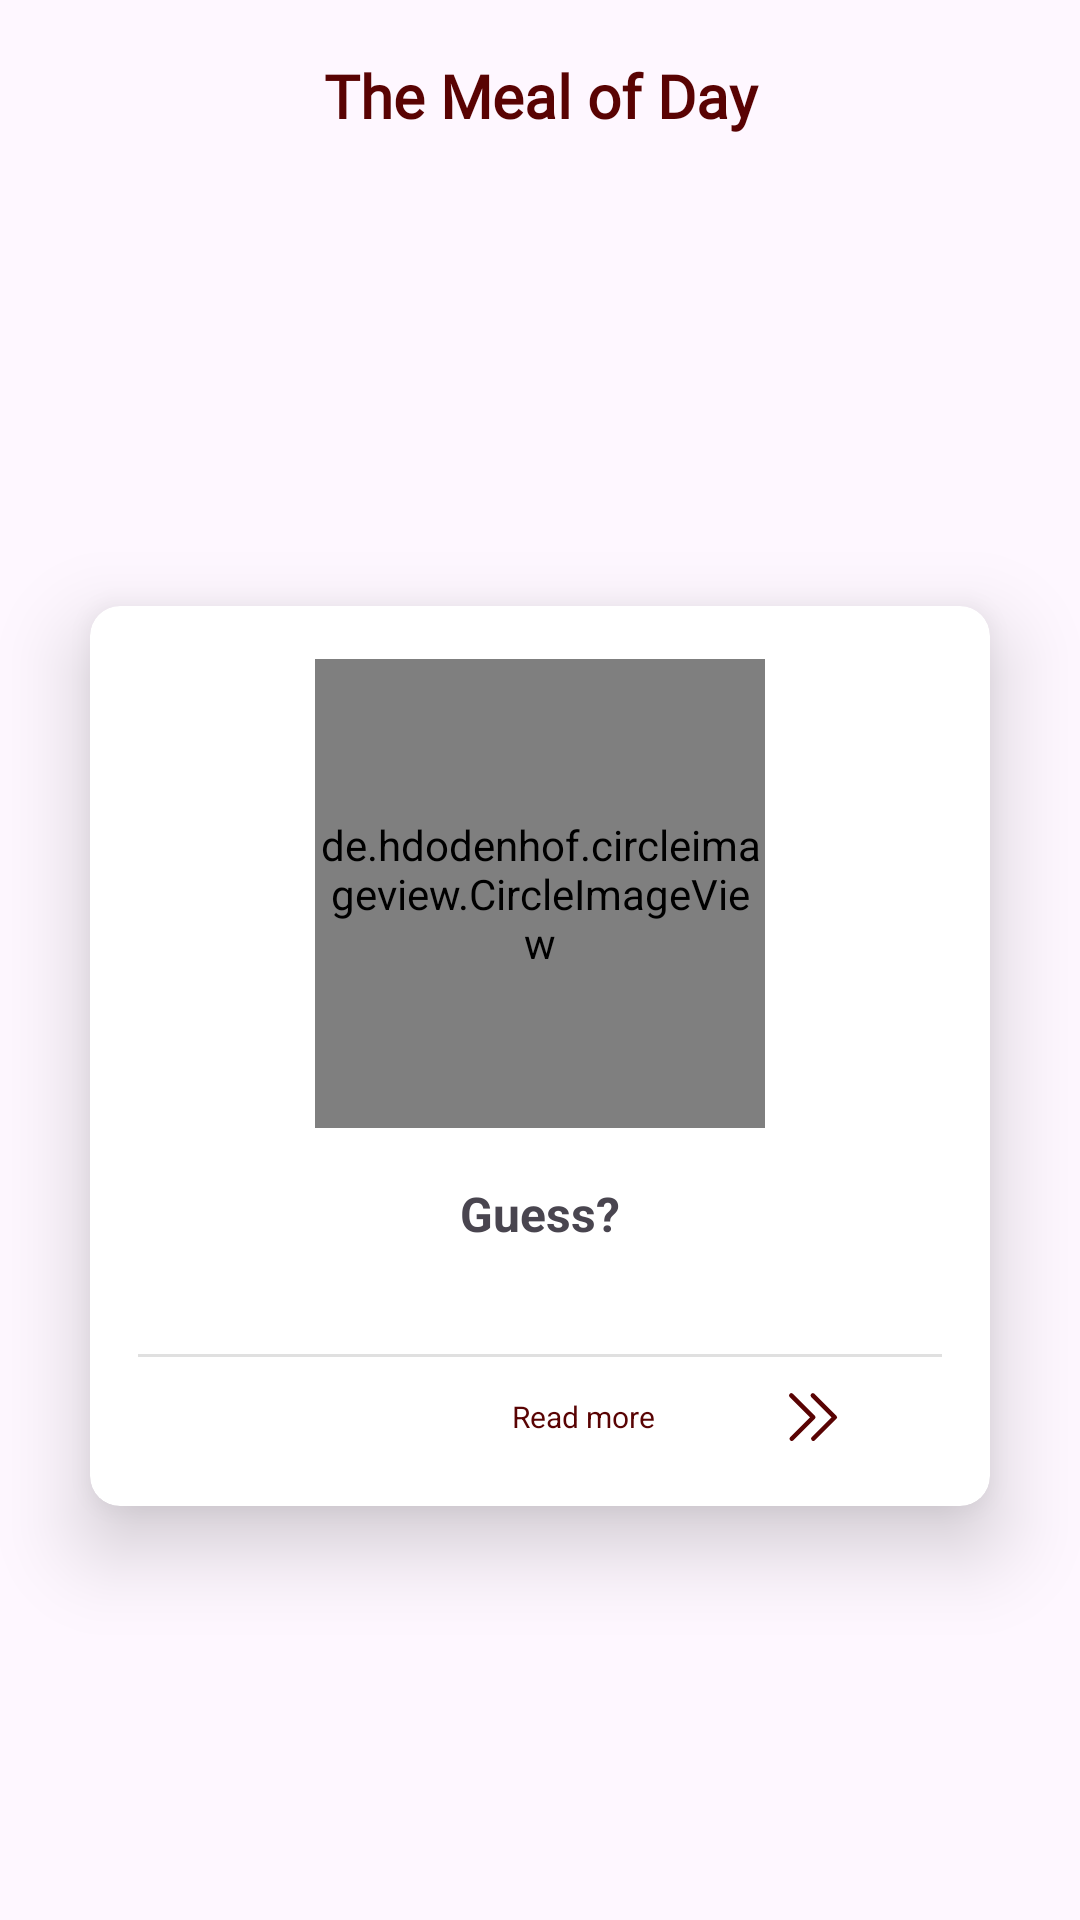

Where to tap for icons on this 1080px x 1920px app screen, as point (x, y):
arrow next: point (813, 1417)
